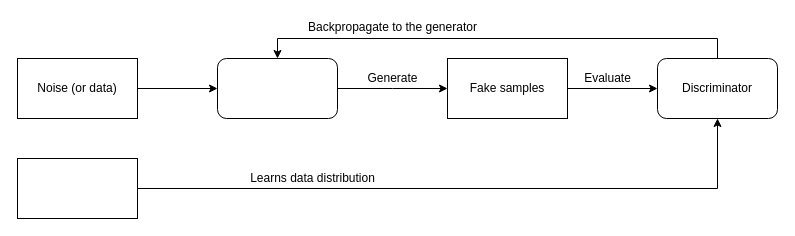
The diagram is 795 pixels wide and 236 high, and some of its shapes have lost their labels. The centre of each missing label's shape, as x and y in pixels:
Generator: the point at 277,88
Real data: the point at 77,188
